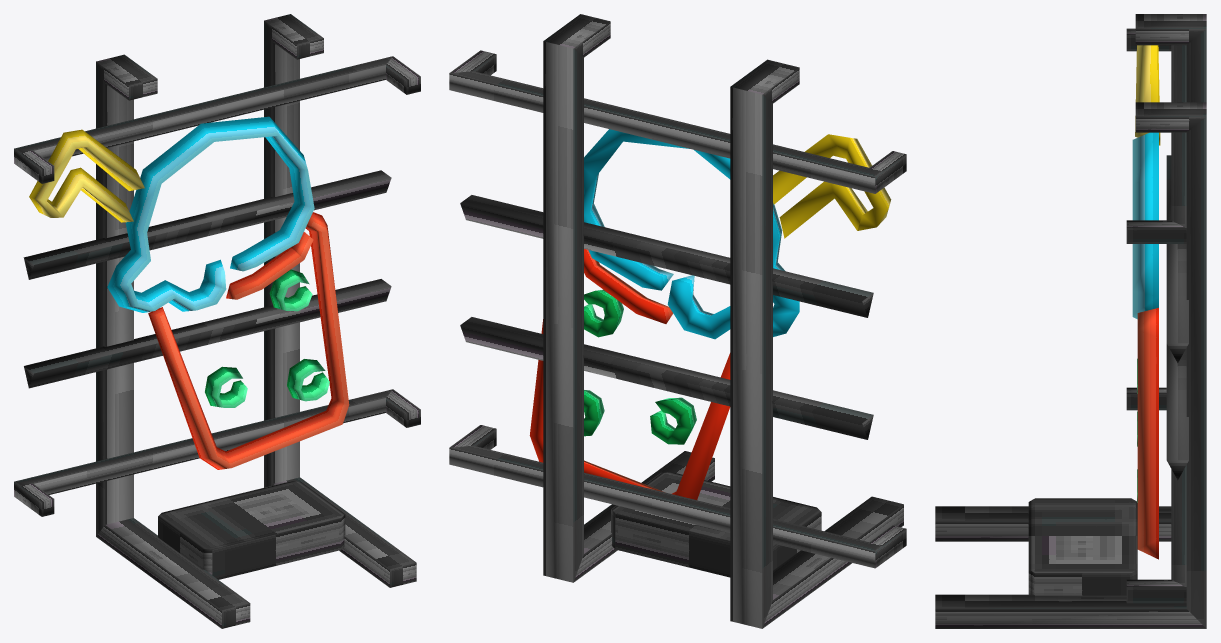
File: int_oth_neon.dae
3 renders of one model, left to right at view 1: azimuth 30°, elevation 25°; view 2: azimuth 150°, elevation 25°; view 3: azimuth 270°, elevation 25°, orthographic. The views are drawn at different scales.
Parts seen in each view (by area): view 1: int_oth_neon; view 2: int_oth_neon; view 3: int_oth_neon.
Part boxes in pixels (box(x1,y1,x2,y2)): int_oth_neon: box(14, 14, 420, 628); int_oth_neon: box(449, 14, 906, 628); int_oth_neon: box(935, 14, 1206, 628).
Bounding box in the file's own units: 27.97 × 33.51 × 16.1.
3 materials, 3 textured.
